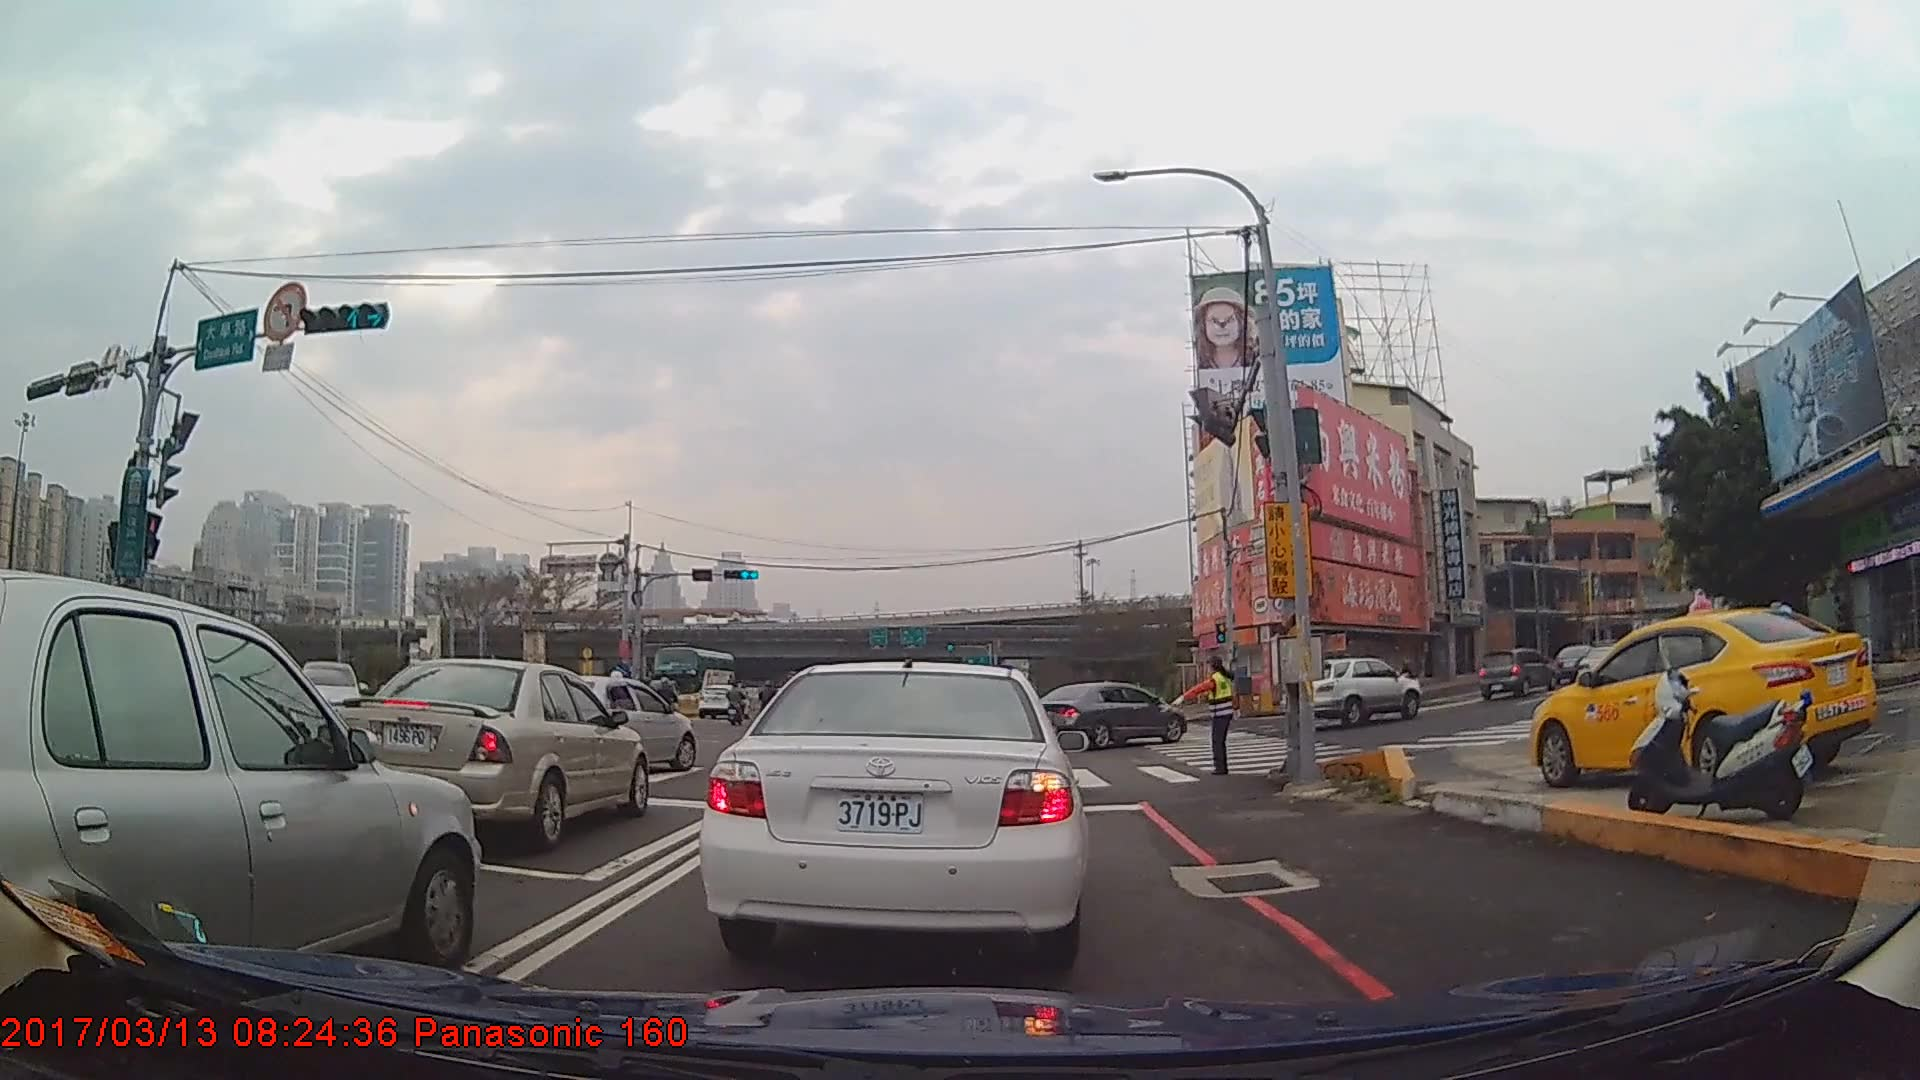pedestrian: (1165, 656, 1243, 777)
rider: (758, 681, 778, 728), (726, 681, 746, 726)
vehicle: (0, 569, 479, 997), (697, 662, 1089, 967), (1525, 605, 1876, 791), (333, 655, 647, 844), (529, 673, 696, 773), (1031, 680, 1186, 748), (1295, 655, 1423, 728), (294, 656, 364, 732), (653, 645, 736, 702), (1474, 645, 1557, 700), (694, 681, 747, 719)
